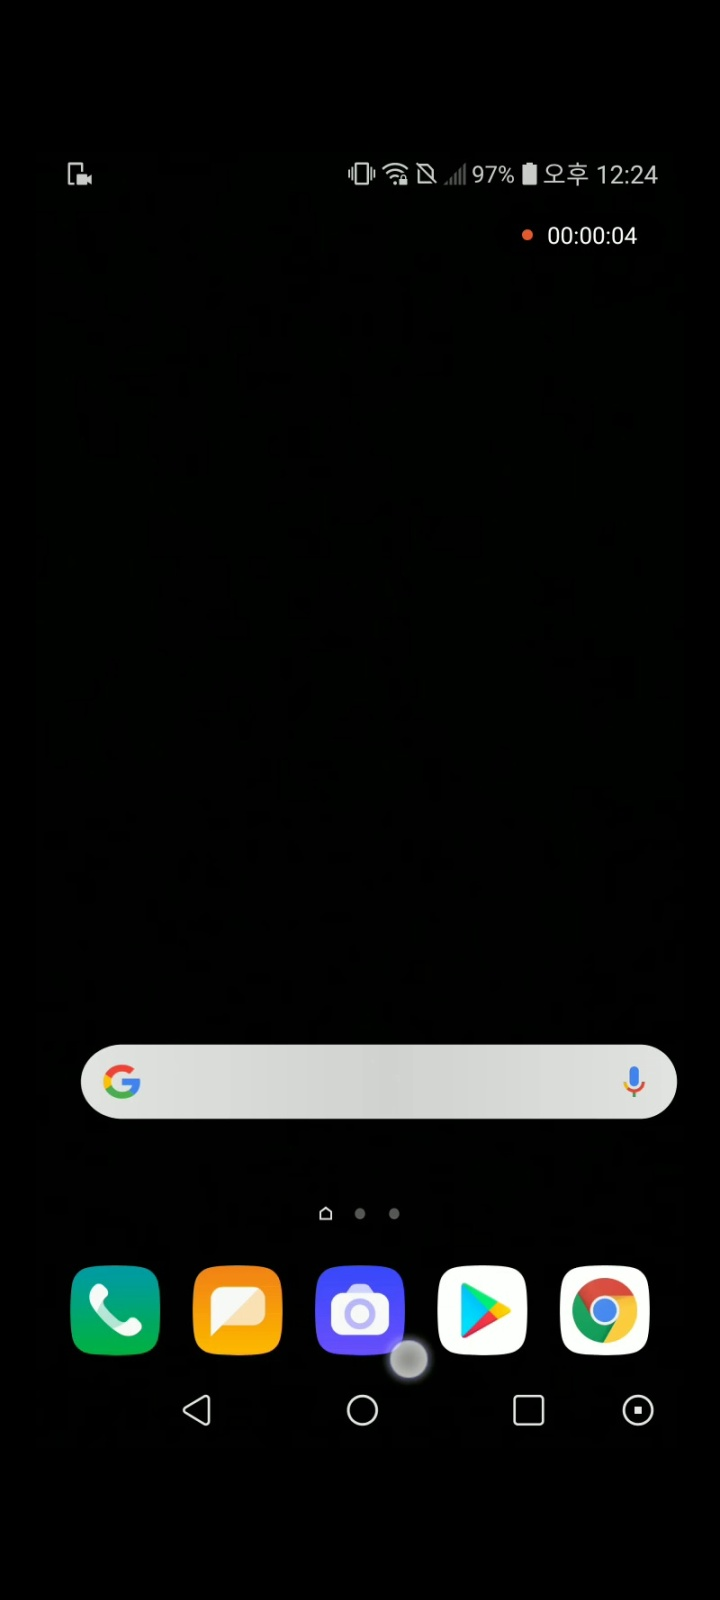Cursor: (388, 1340, 433, 1385)
